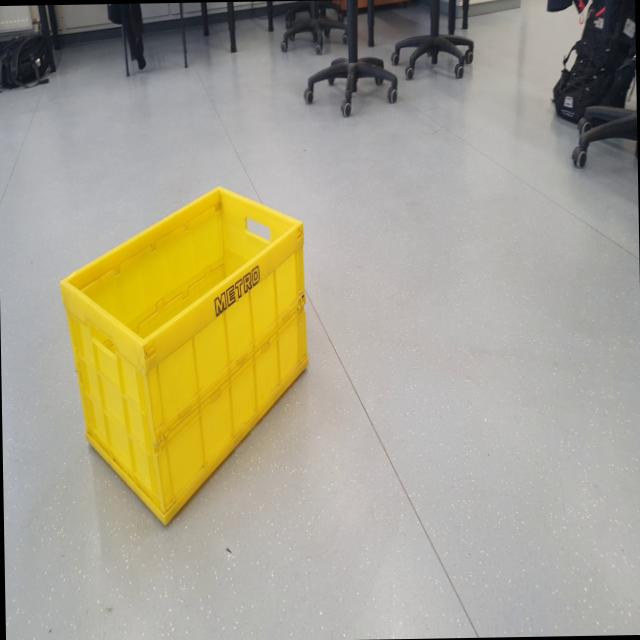box: (53, 170, 314, 536)
